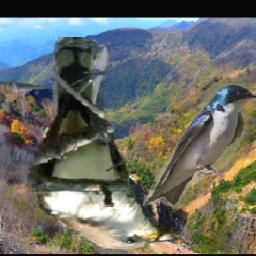Cuckoo: (27, 37, 185, 250)
Swallow: (143, 84, 256, 207)
